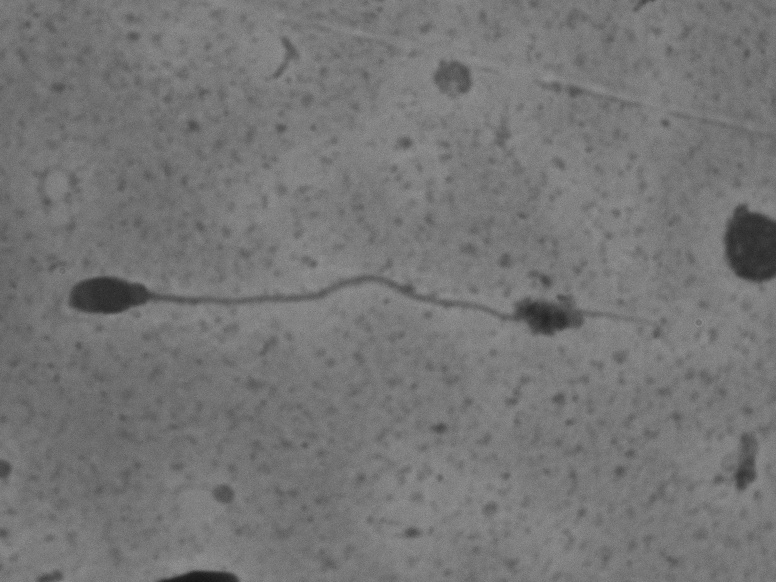Abnormal: (43, 233, 703, 407)
